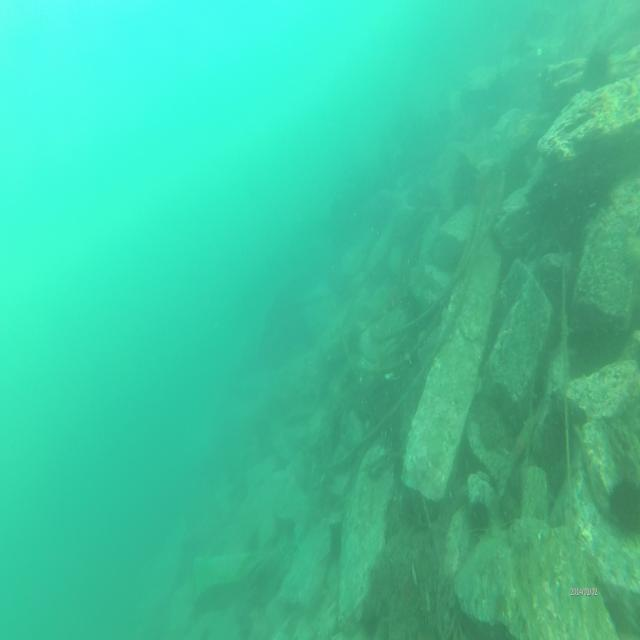echinus: (581, 46, 611, 97)
holothurian: (492, 413, 538, 491)
